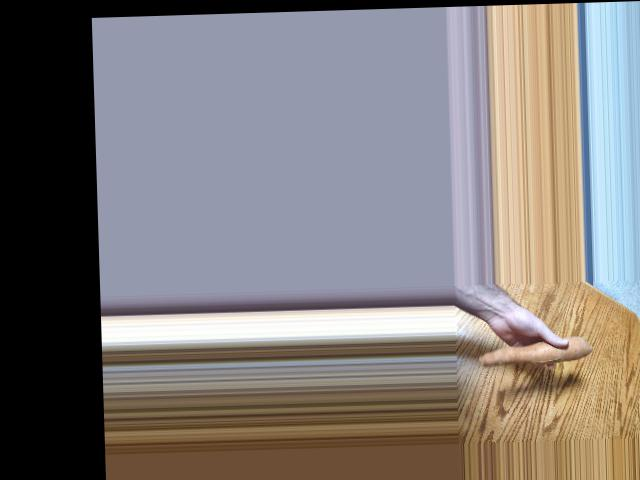sweet_potato: (474, 340, 589, 369)
